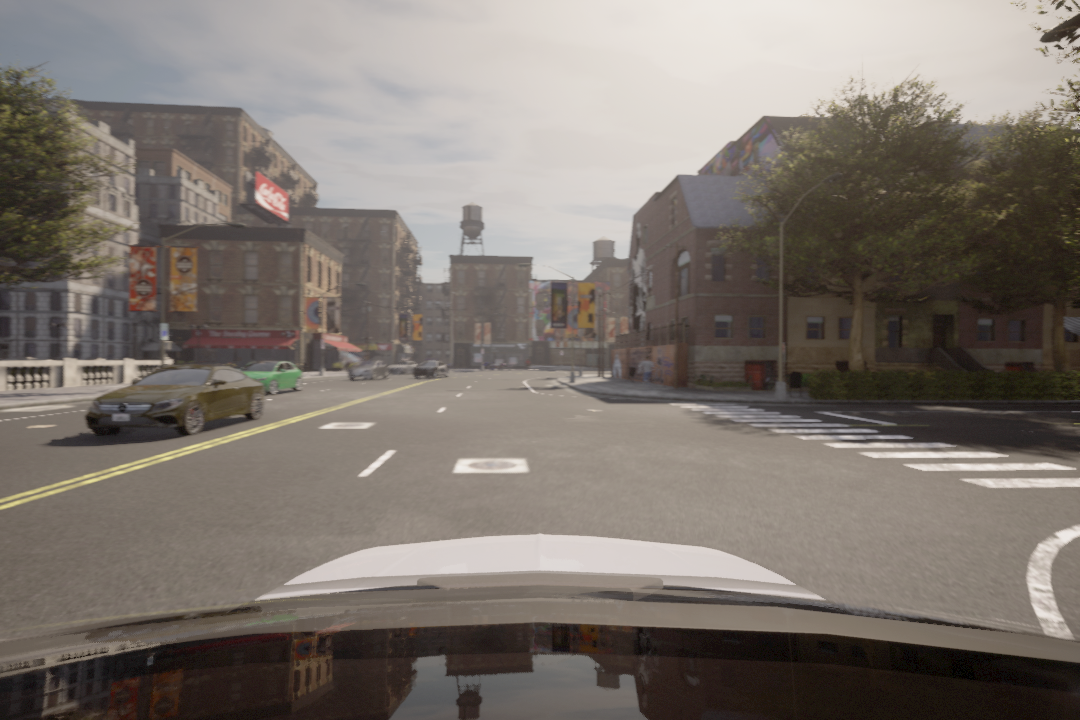walkside: (667, 400, 1080, 503)
